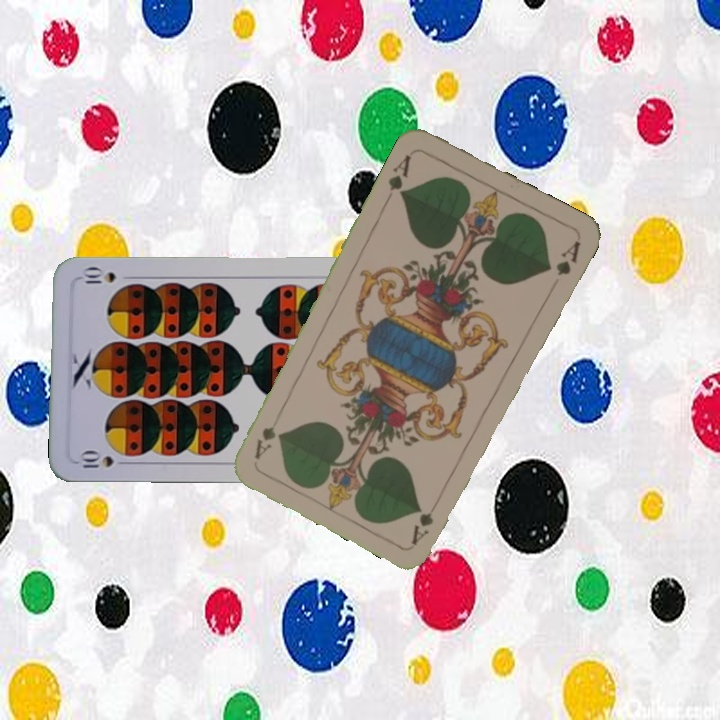GA: (407, 492, 444, 547), (383, 150, 414, 200)
S10: (75, 449, 115, 470)
